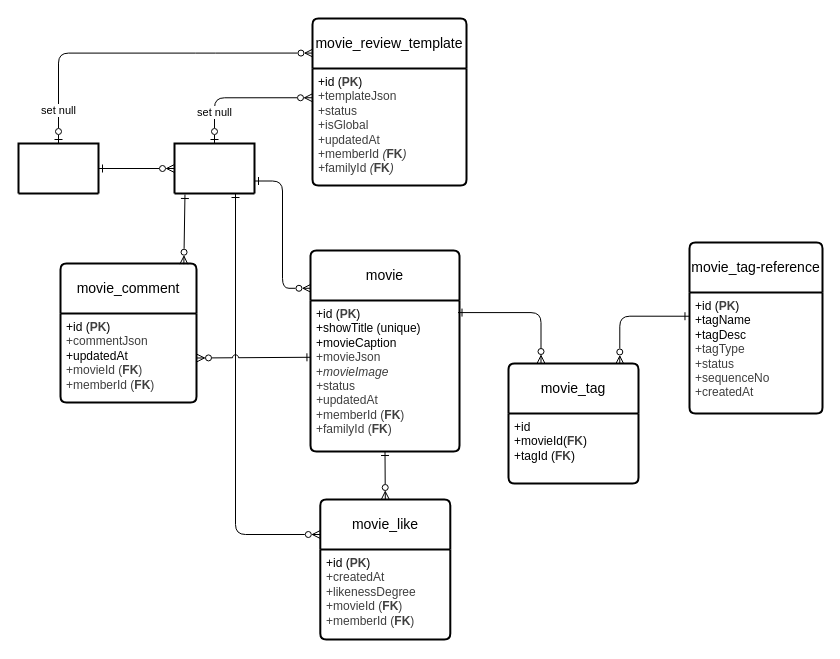
Some shapes in this 840 by 659 pixel diagram are drawn without their labels. The centre of each missing label's shape, as x and y in pixels:
"family" belongs at point (58, 168).
"member" belongs at point (214, 168).
